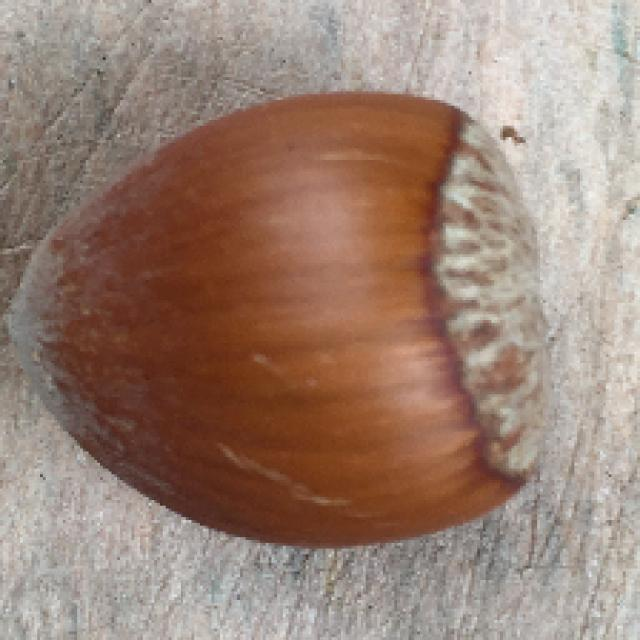QualityHazelnut: (15, 88, 559, 551)
